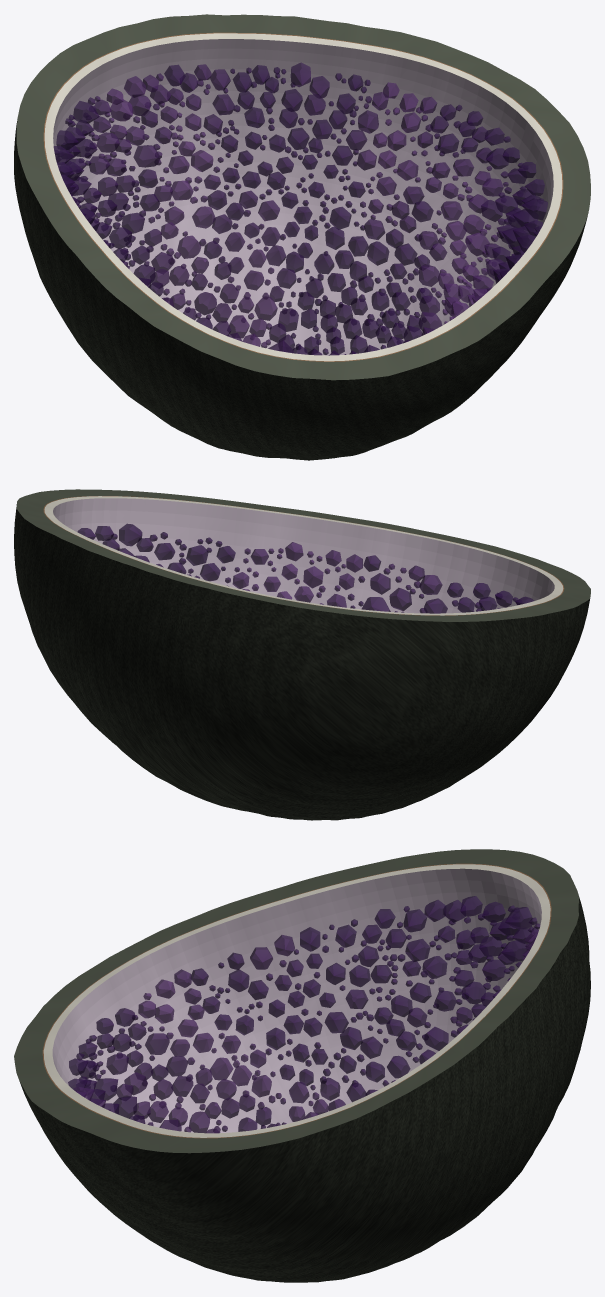
File: specimen.glb
3 renders of one model, top to bottom at view 1: azimuth 30°, elevation 25°; view 2: azimuth 150°, elevation 25°; view 3: azimuth 270°, elevation 25°, orthographic. The views are drawn at different scales.
Parts seen in each view (by area): view 1: cavity-lining, amethyst-growth, outer-shell, rim-2, rim-0, rim-1; view 2: outer-shell, cavity-lining, amethyst-growth, rim-2, rim-0, rim-1; view 3: cavity-lining, outer-shell, amethyst-growth, rim-2, rim-0, rim-1.
Boxes of the visible parts, box(x1,y1,x2,y2) form: cavity-lining: box(53, 39, 553, 355); amethyst-growth: box(53, 62, 547, 355); outer-shell: box(14, 121, 588, 460); rim-2: box(16, 14, 590, 380); rim-0: box(44, 33, 562, 361); rim-1: box(43, 32, 563, 361); outer-shell: box(14, 504, 589, 820); cavity-lining: box(53, 498, 554, 613); amethyst-growth: box(77, 523, 534, 613); rim-2: box(16, 489, 590, 621); rim-0: box(44, 496, 563, 615); rim-1: box(43, 496, 564, 615); cavity-lining: box(52, 868, 541, 1132); outer-shell: box(19, 893, 590, 1282); amethyst-growth: box(68, 896, 540, 1133); rim-2: box(14, 849, 579, 1153); rim-0: box(43, 864, 550, 1137); rim-1: box(42, 863, 551, 1138).
Bounding box in the file's own units: 0.0452 × 0.027 × 0.0429.
Materials: 4 (1 with a texture image).
